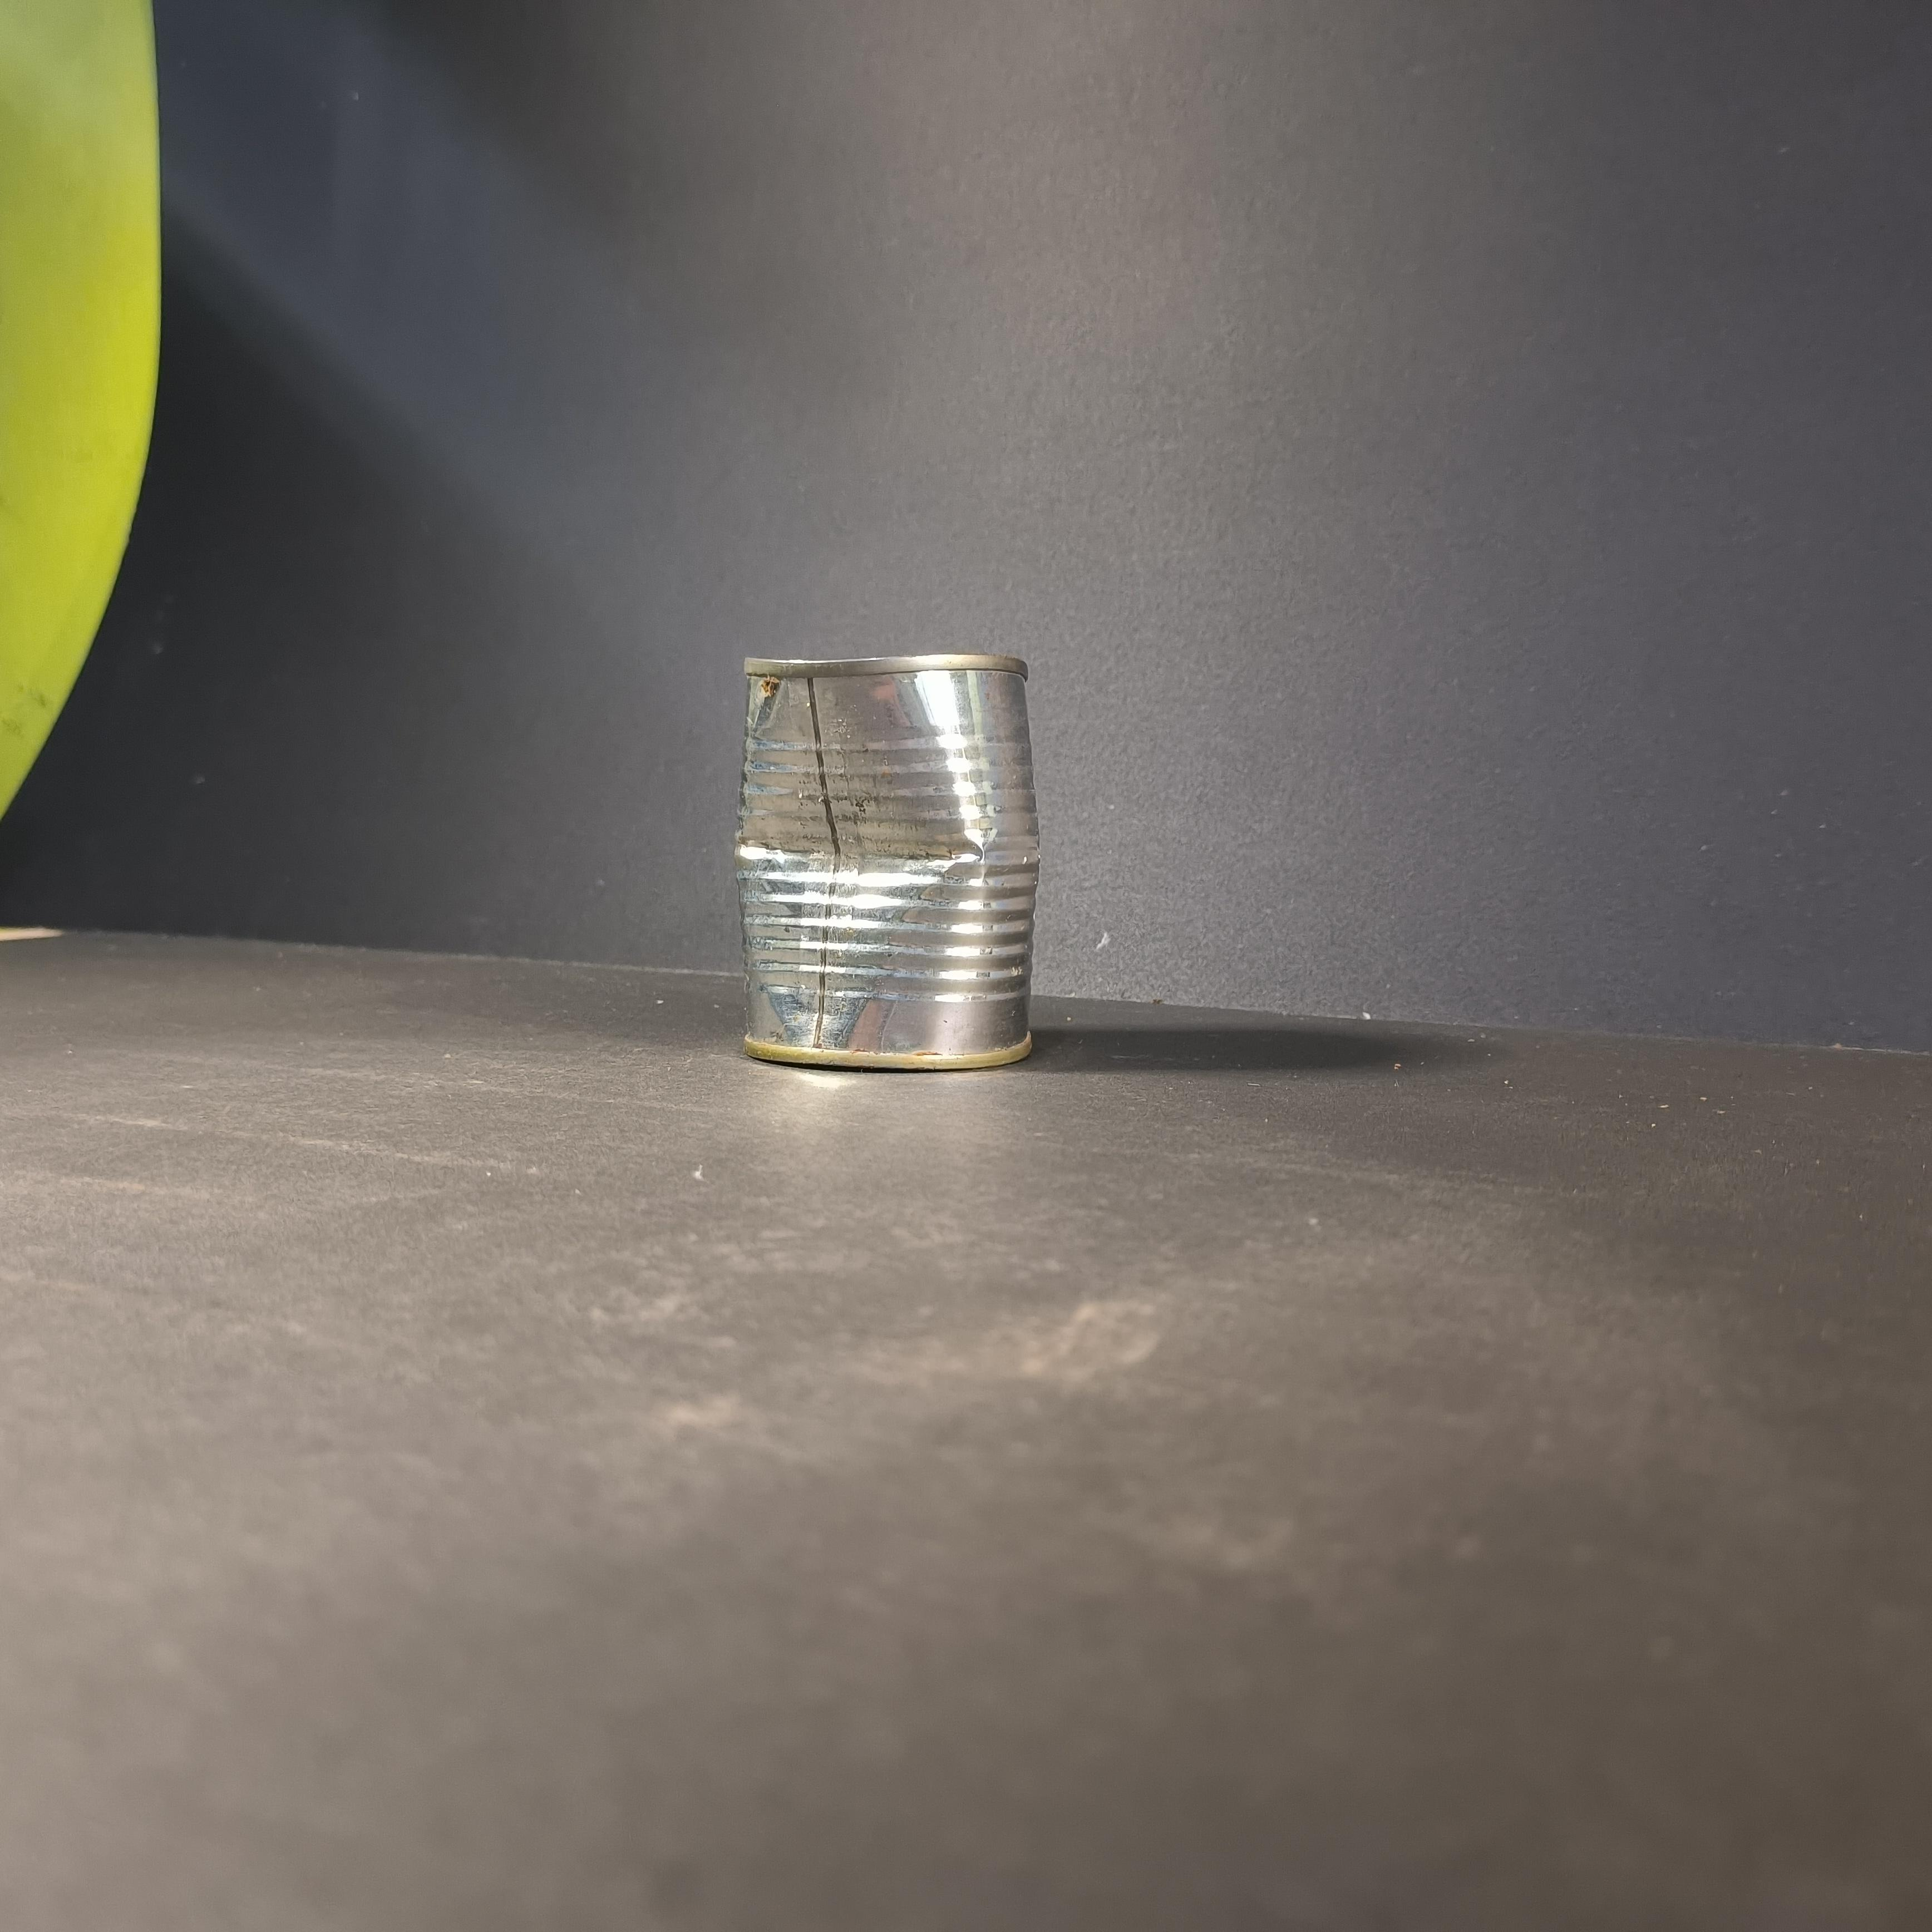Dented: (713, 623, 1060, 1088)
